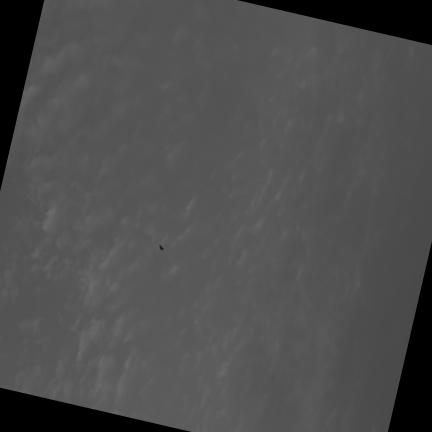Shahed: (159, 243, 163, 249)
